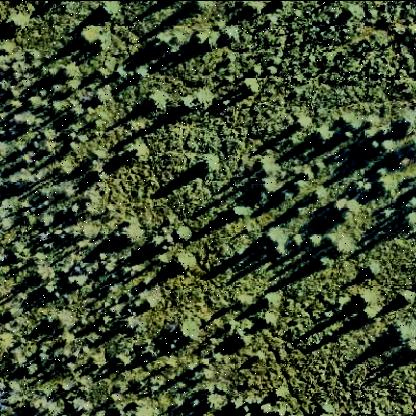tree-top: (324, 222, 356, 257), (117, 220, 145, 249), (255, 167, 283, 196), (371, 168, 398, 197), (262, 225, 288, 253), (2, 9, 28, 37), (387, 321, 413, 347), (356, 299, 381, 326), (174, 319, 199, 344), (191, 29, 217, 53), (202, 390, 229, 412), (196, 153, 219, 177), (123, 142, 148, 164), (77, 25, 100, 47), (312, 124, 334, 146), (330, 197, 352, 219), (172, 253, 195, 274), (396, 111, 416, 135), (95, 2, 119, 22), (145, 91, 165, 113), (340, 112, 362, 132), (178, 96, 200, 116), (115, 349, 135, 371), (401, 207, 416, 235), (248, 1, 271, 19), (260, 290, 280, 310), (175, 221, 195, 241), (145, 231, 165, 251), (30, 268, 50, 288), (230, 332, 251, 351), (25, 400, 48, 416), (362, 259, 380, 279), (305, 231, 323, 251), (227, 204, 247, 222), (379, 136, 397, 156), (61, 61, 79, 81), (241, 78, 259, 97), (231, 402, 255, 416), (24, 95, 44, 111), (398, 288, 416, 305), (256, 401, 276, 416), (189, 1, 210, 15), (242, 1, 263, 15), (3, 305, 20, 322), (41, 137, 58, 153), (65, 202, 81, 218), (132, 66, 147, 82), (273, 387, 288, 402), (316, 404, 333, 416), (264, 15, 276, 29)
